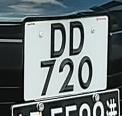0: (76, 55, 95, 90)
2: (57, 57, 77, 94)
7: (38, 59, 58, 98)
D: (65, 18, 88, 59), (46, 21, 69, 60)
